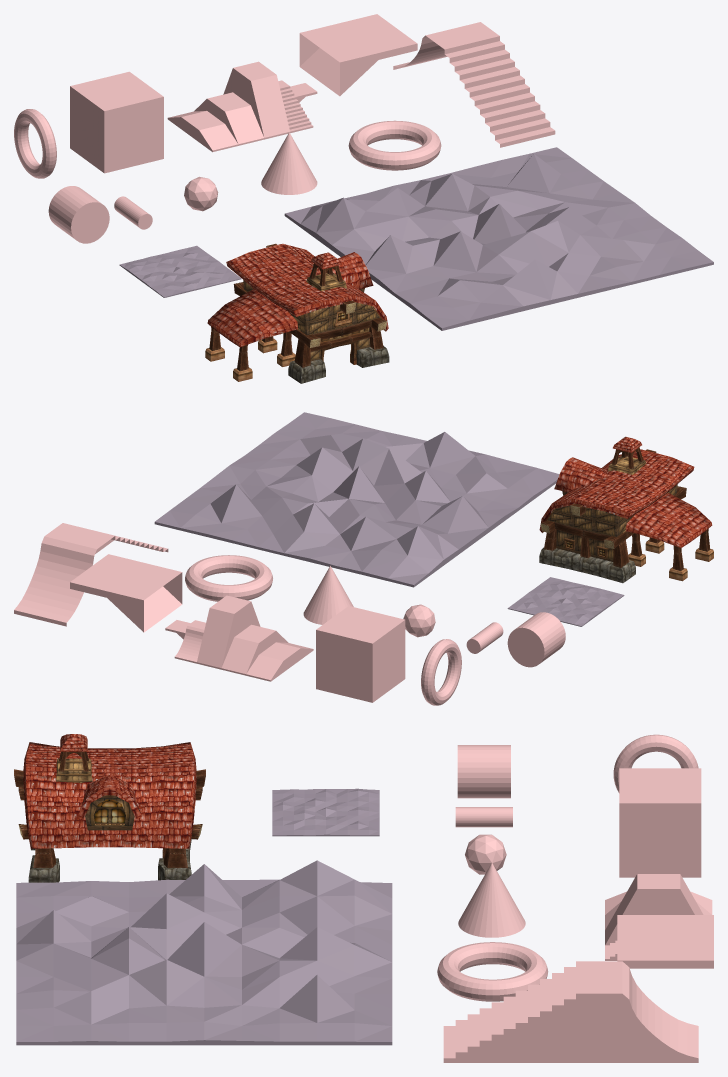
File: testing-grounds3.glb
The picture shows the model from 3 angles, top to bottom: view 1: azimuth 30°, elevation 25°; view 2: azimuth 150°, elevation 25°; view 3: azimuth 270°, elevation 25°; orthographic projection. The views are drawn at different scales.
Parts seen in each view (by area): view 1: roughPlan.001, redridge_lumbermill.obj, stairs.002, Cube, stairs.003, roughPlan, Torus, slopes.003, Cylinder, Cone, Torus.001, slopes.002 (+4 smaller); view 2: roughPlan.001, redridge_lumbermill.obj, Cube, stairs.002, stairs.003, roughPlan, Torus, slopes.003, Cylinder, Torus.001, slopes.002, Cone (+4 smaller); view 3: roughPlan.001, redridge_lumbermill.obj, stairs.002, Cube, roughPlan, stairs.003, Torus, slopes.003, Cone, Cylinder, Torus.001, Icosphere (+1 smaller).
Part boxes in pixels (<box>): roughPlan.001: <box>284,147,713,330</box>; redridge_lumbermill.obj: <box>205,243,389,383</box>; stairs.002: <box>393,22,555,147</box>; Cube: <box>70,71,163,173</box>; stairs.003: <box>299,14,417,96</box>; roughPlan: <box>119,245,241,297</box>; Torus: <box>348,120,441,170</box>; slopes.003: <box>223,61,290,139</box>; Cylinder: <box>48,186,109,243</box>; Cone: <box>261,132,317,194</box>; Torus.001: <box>14,109,56,178</box>; slopes.002: <box>194,92,264,145</box>; roughPlan.001: <box>154,412,559,587</box>; redridge_lumbermill.obj: <box>539,436,713,583</box>; Cube: <box>316,606,405,702</box>; stairs.002: <box>14,523,168,626</box>; stairs.003: <box>70,554,182,632</box>; roughPlan: <box>507,577,624,626</box>; Torus: <box>185,555,272,601</box>; slopes.003: <box>197,595,260,669</box>; Cylinder: <box>507,612,565,667</box>; Torus.001: <box>421,639,461,705</box>; slopes.002: <box>221,624,288,675</box>; Cone: <box>303,565,353,624</box>; roughPlan.001: <box>16,860,392,1045</box>; redridge_lumbermill.obj: <box>14,734,205,882</box>; stairs.002: <box>443,961,698,1062</box>; Cube: <box>619,768,701,877</box>; roughPlan: <box>272,788,379,836</box>; stairs.003: <box>617,915,713,968</box>; Torus: <box>437,942,548,1001</box>; slopes.003: <box>605,874,703,945</box>; Cone: <box>458,863,525,937</box>; Cylinder: <box>457,745,510,798</box>; Torus.001: <box>613,734,698,793</box>; Icosphere: <box>465,834,506,874</box>.
Bounding box in the file's own units: 151 × 32.08 × 160.
11 materials, 9 textured.
